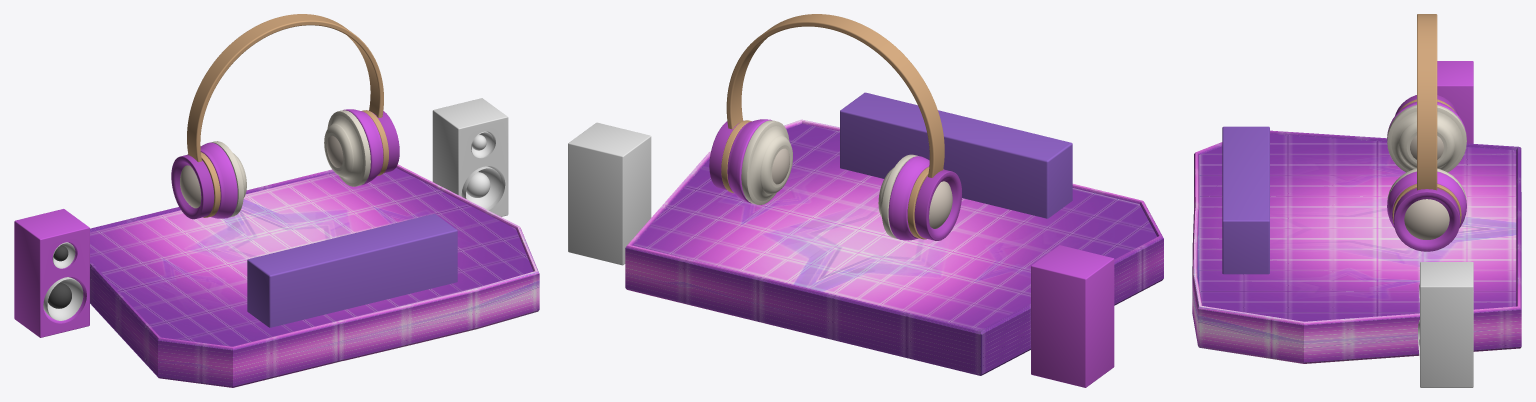
The model's file is stage.fbx.
The picture shows the model from 3 angles, left to right: view 1: azimuth 30°, elevation 25°; view 2: azimuth 150°, elevation 25°; view 3: azimuth 270°, elevation 25°; orthographic projection. The views are drawn at different scales.
Visible parts, largest first — view 1: 封顶_2_2, 挤压, 立方体, 立方体_2, 立方体_Instance, 扫描, 平滑_2, 圆柱_3, 圆柱_2, 圆柱, 球体_4, 圆柱_1 (+5 smaller); view 2: 封顶_2_2, 挤压, 立方体, 立方体_2, 立方体_Instance, 扫描, 圆柱_3, 平滑_2, 圆柱_2, 圆柱, 球体_4, 圆柱_1 (+1 smaller); view 3: 封顶_2_2, 挤压, 立方体, 立方体_Instance, 平滑_2, 扫描, 圆柱_3, 圆柱, 立方体_2, 球体_4, 圆柱_2, 平滑_1 (+1 smaller).
Part boxes in pixels (x1=…): 封顶_2_2: x1=90, y1=168, x2=533, y2=346; 挤压: x1=90, y1=267, x2=539, y2=386; 立方体: x1=247, y1=214, x2=457, y2=327; 立方体_2: x1=14, y1=209, x2=89, y2=337; 立方体_Instance: x1=432, y1=98, x2=508, y2=216; 扫描: x1=187, y1=14, x2=383, y2=162; 平滑_2: x1=90, y1=164, x2=539, y2=350; 圆柱_3: x1=210, y1=110, x2=370, y2=217; 圆柱_2: x1=200, y1=109, x2=383, y2=218; 圆柱: x1=171, y1=111, x2=399, y2=219; 球体_4: x1=180, y1=135, x2=343, y2=208; 圆柱_1: x1=188, y1=110, x2=388, y2=217; 封顶_2_2: x1=633, y1=123, x2=1156, y2=330; 挤压: x1=625, y1=238, x2=1163, y2=374; 立方体: x1=840, y1=92, x2=1072, y2=218; 立方体_2: x1=1031, y1=245, x2=1114, y2=387; 立方体_Instance: x1=568, y1=122, x2=651, y2=265; 扫描: x1=726, y1=14, x2=944, y2=177; 圆柱_3: x1=741, y1=120, x2=918, y2=238; 平滑_2: x1=625, y1=119, x2=1163, y2=334; 圆柱_2: x1=727, y1=119, x2=929, y2=240; 圆柱: x1=709, y1=120, x2=961, y2=240; 球体_4: x1=772, y1=148, x2=952, y2=228; 圆柱_1: x1=721, y1=120, x2=943, y2=239; 封顶_2_2: x1=1197, y1=134, x2=1516, y2=321; 挤压: x1=1192, y1=187, x2=1521, y2=362; 立方体: x1=1222, y1=126, x2=1269, y2=274; 立方体_Instance: x1=1420, y1=262, x2=1473, y2=387; 平滑_2: x1=1192, y1=130, x2=1521, y2=325; 扫描: x1=1417, y1=14, x2=1437, y2=190; 圆柱_3: x1=1387, y1=105, x2=1466, y2=204; 圆柱: x1=1393, y1=95, x2=1460, y2=251; 立方体_2: x1=1437, y1=61, x2=1473, y2=143; 球体_4: x1=1404, y1=135, x2=1449, y2=239; 圆柱_2: x1=1387, y1=101, x2=1466, y2=228; 平滑_1: x1=1198, y1=346, x2=1521, y2=363.
Size of the model in its own units: 679 by 353 by 402.
Materials: 9 (1 with a texture image).
